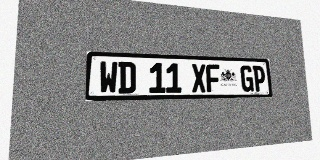1: (149, 62, 166, 93), (166, 63, 181, 93)
D: (118, 62, 136, 94)
F: (206, 64, 221, 92)
G: (240, 65, 254, 92)
P: (253, 66, 266, 92)
W: (99, 61, 118, 94)
X: (191, 64, 206, 92)
